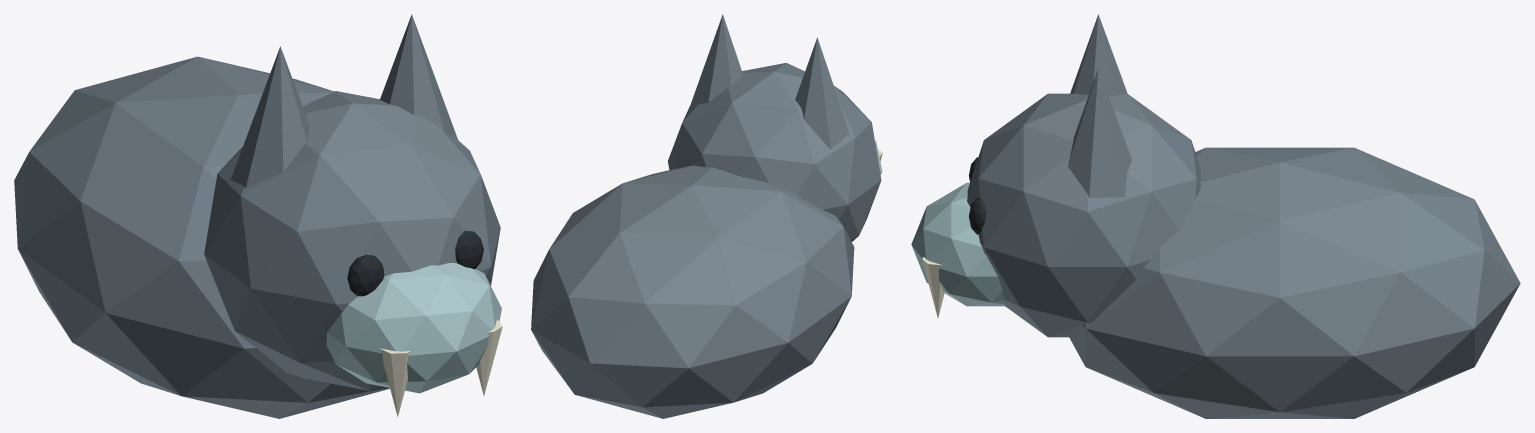
File: windwood-sharpfang-wolf.glb
3 views of the same model, side by side, from view 1: azimuth 30°, elevation 25°; view 2: azimuth 150°, elevation 25°; view 3: azimuth 270°, elevation 25° (orthographic). The views are drawn at different scales.
Visible parts, largest first — view 1: body, head, muzzle, ear, ear.001, eye, fang, eye.001, fang.001; view 2: body, head, ear, ear.001; view 3: body, head, muzzle, ear.001, ear, fang.001.
Boxes of the visible parts, bbox=[...] form: body: bbox=[14, 56, 389, 418]; head: bbox=[204, 91, 500, 390]; muzzle: bbox=[326, 263, 501, 393]; ear: bbox=[231, 46, 309, 188]; ear.001: bbox=[380, 14, 457, 139]; eye: bbox=[347, 254, 384, 296]; fang: bbox=[379, 348, 410, 417]; eye.001: bbox=[455, 230, 483, 269]; fang.001: bbox=[476, 319, 502, 395]; body: bbox=[531, 165, 854, 418]; head: bbox=[668, 63, 881, 241]; ear: bbox=[795, 37, 849, 149]; ear.001: bbox=[687, 14, 743, 113]; body: bbox=[1069, 147, 1520, 418]; head: bbox=[967, 93, 1201, 337]; muzzle: bbox=[911, 182, 1005, 306]; ear.001: bbox=[1068, 68, 1131, 197]; ear: bbox=[1070, 14, 1127, 94]; fang.001: bbox=[922, 257, 944, 318].
Bounding box in the file's own units: 1.29 × 1.5 × 2.28.
